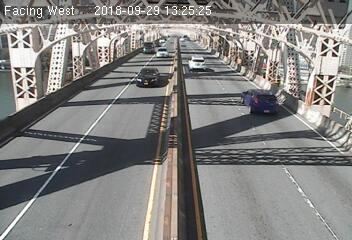car: (239, 87, 278, 115), (134, 67, 161, 90), (184, 53, 208, 72), (154, 45, 170, 59), (140, 41, 156, 53)
